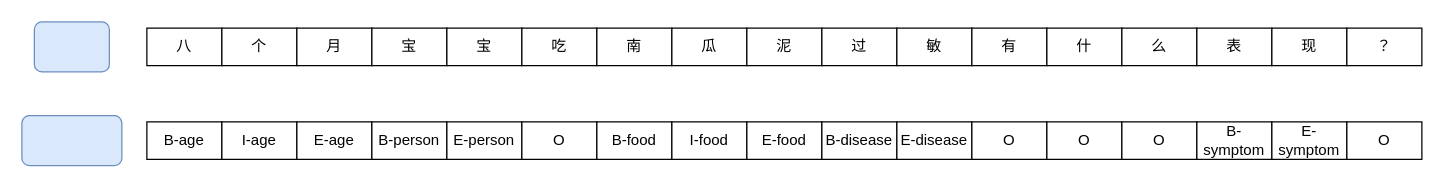
The diagram is 1444 pixels wide and 188 high, and some of its shapes have lost their labels. Each missing label, with the box of its shape:
BIOES标注: (21, 114, 122, 166)
句子: (33, 21, 109, 72)
